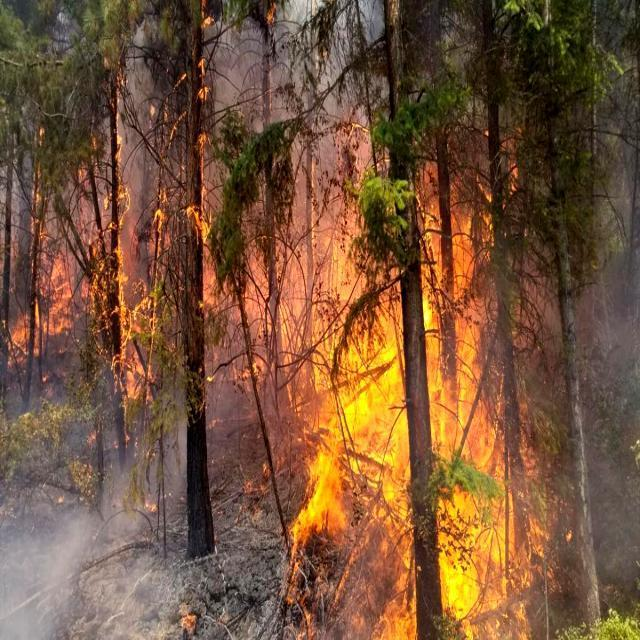Fire: (312, 106, 556, 631), (26, 134, 159, 441)
Smoke: (0, 424, 187, 630)
